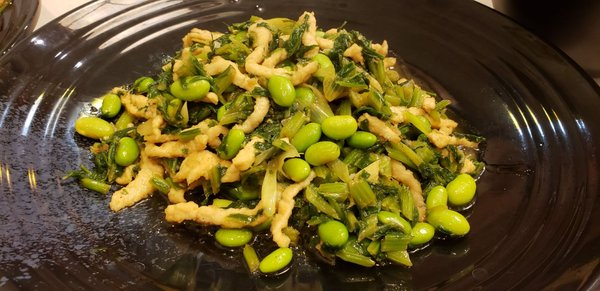sushi: (18, 1, 598, 290)
